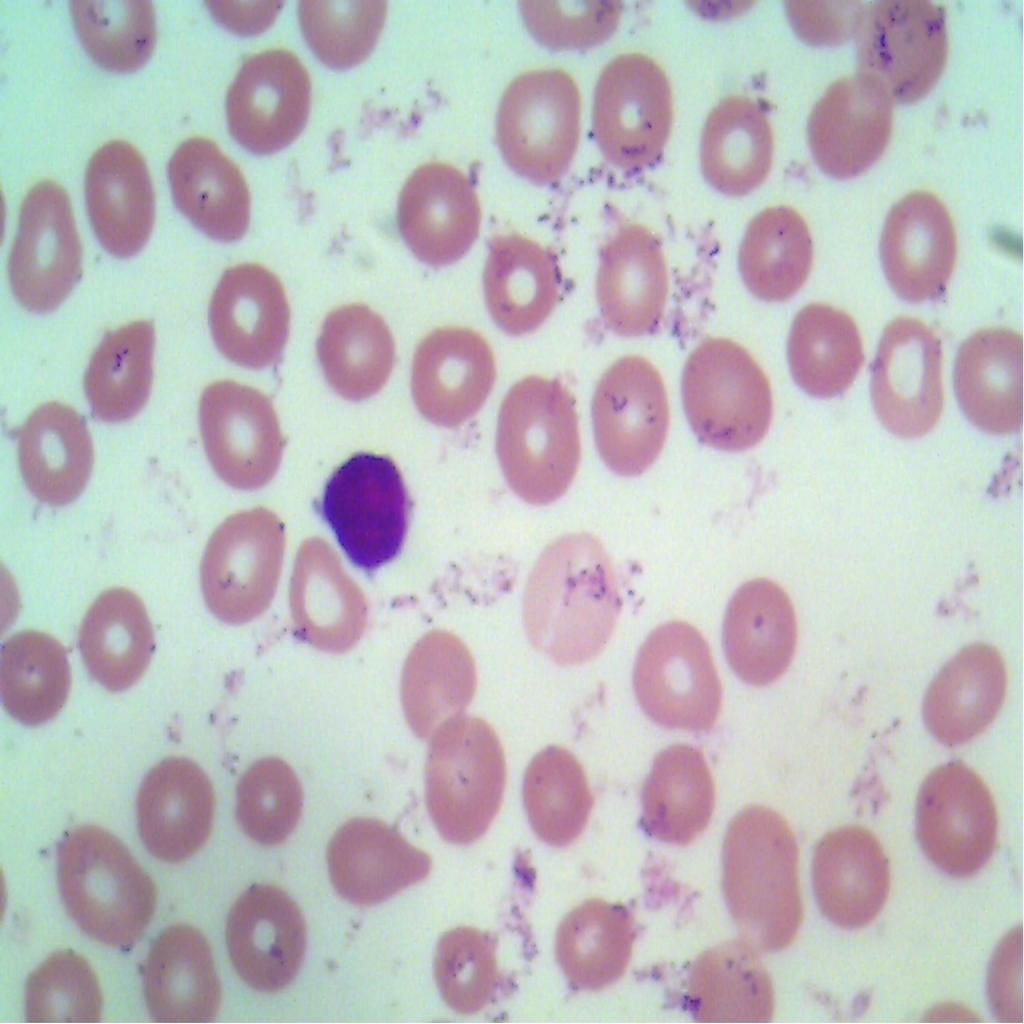Eritrosit: (708, 787, 802, 954), (0, 178, 102, 328), (678, 326, 784, 468), (42, 828, 156, 954), (526, 531, 630, 669), (904, 741, 998, 892), (190, 492, 288, 634), (284, 520, 368, 678), (866, 178, 962, 311), (846, 0, 955, 117), (626, 607, 728, 732), (584, 50, 682, 180), (491, 364, 582, 501), (202, 257, 304, 378), (318, 808, 428, 920), (586, 346, 676, 481), (223, 41, 321, 162), (419, 714, 502, 856), (193, 370, 288, 491), (503, 735, 602, 851), (584, 221, 678, 343), (718, 568, 806, 698), (224, 872, 314, 998), (798, 64, 893, 183), (916, 630, 1006, 752), (491, 68, 582, 188), (641, 735, 723, 867), (389, 159, 484, 271), (166, 122, 250, 248), (806, 818, 898, 931), (75, 304, 162, 423), (82, 142, 160, 271), (729, 198, 823, 304), (868, 311, 942, 445), (12, 397, 98, 512), (693, 85, 776, 204), (136, 751, 218, 868), (554, 884, 638, 998), (318, 291, 396, 411), (413, 317, 493, 434), (403, 624, 476, 749), (478, 230, 564, 335), (946, 315, 1023, 432), (0, 621, 74, 737), (238, 737, 304, 865), (82, 580, 155, 694), (423, 909, 502, 1012), (786, 298, 866, 394), (146, 922, 219, 1023), (693, 939, 779, 1023), (20, 948, 106, 1023)
Limfoblast: (315, 447, 426, 574)
